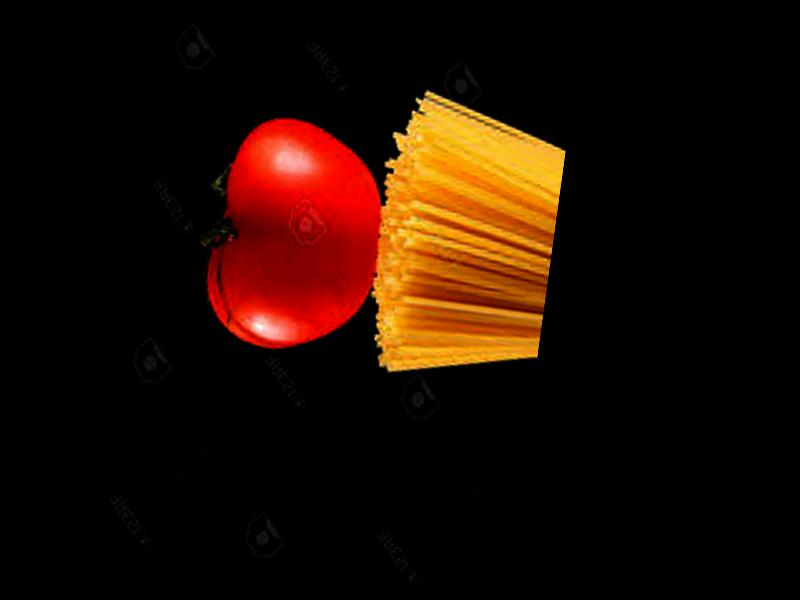Tomato: (197, 110, 394, 357)
